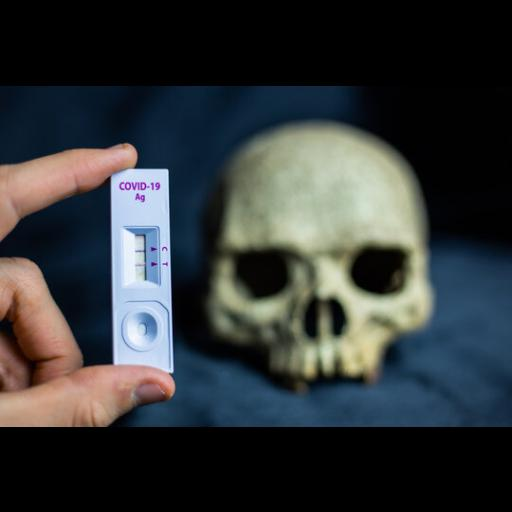Pos: (112, 169, 172, 371)
